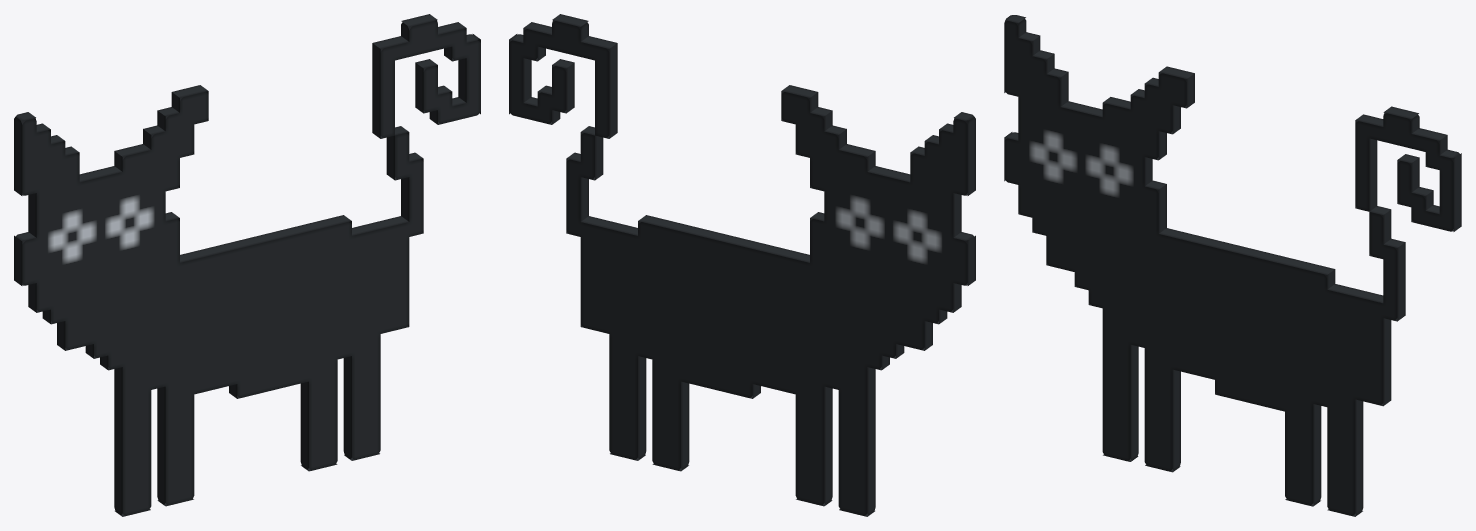
File: cat7B.fbx
The picture shows the model from 3 angles, left to right: view 1: azimuth 30°, elevation 25°; view 2: azimuth 150°, elevation 25°; view 3: azimuth 330°, elevation 25°; orthographic projection. The views are drawn at different scales.
Parts seen in each view (by area): view 1: generated; view 2: generated; view 3: generated.
Part boxes in pixels (x1,y1,x2,y2): generated: (14,14,480,516); generated: (509,14,975,516); generated: (1004,15,1461,516).
Bounding box in the file's own units: 320 × 280 × 10.
